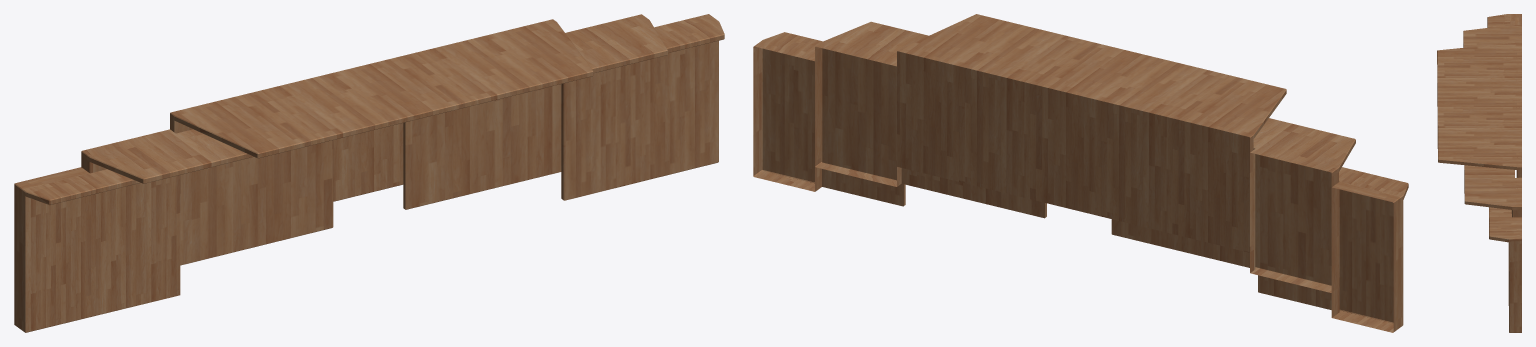
The model's file is Auditorium02_Wooden_Wall02.FBX.
The picture shows the model from 3 angles, left to right: view 1: azimuth 30°, elevation 25°; view 2: azimuth 150°, elevation 25°; view 3: azimuth 270°, elevation 25°; orthographic projection. The views are drawn at different scales.
Visible parts, largest first — view 1: Auditorium02_Wooden_Wall02; view 2: Auditorium02_Wooden_Wall02; view 3: Auditorium02_Wooden_Wall02.
Part boxes in pixels (box(x1,y1,x2,y2)): Auditorium02_Wooden_Wall02: box(14, 14, 724, 332); Auditorium02_Wooden_Wall02: box(753, 14, 1408, 332); Auditorium02_Wooden_Wall02: box(1437, 14, 1521, 332).
Bounding box in the file's own units: 34135 × 8194 × 5434.
3 materials, 1 textured.
